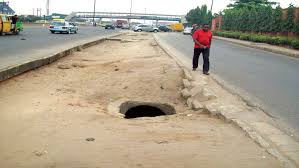Manhole-Open: (112, 95, 183, 124)
car: (47, 18, 81, 35), (133, 21, 162, 35), (184, 25, 194, 35), (105, 21, 116, 30)
human: (189, 21, 215, 76)
